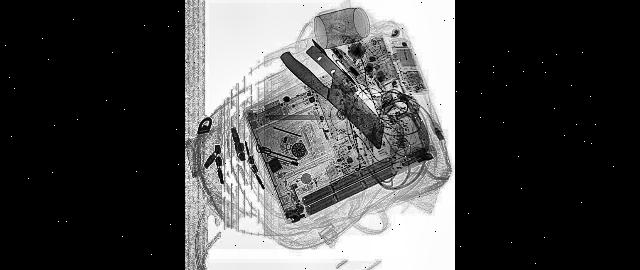Knife: (280, 30, 386, 152)
